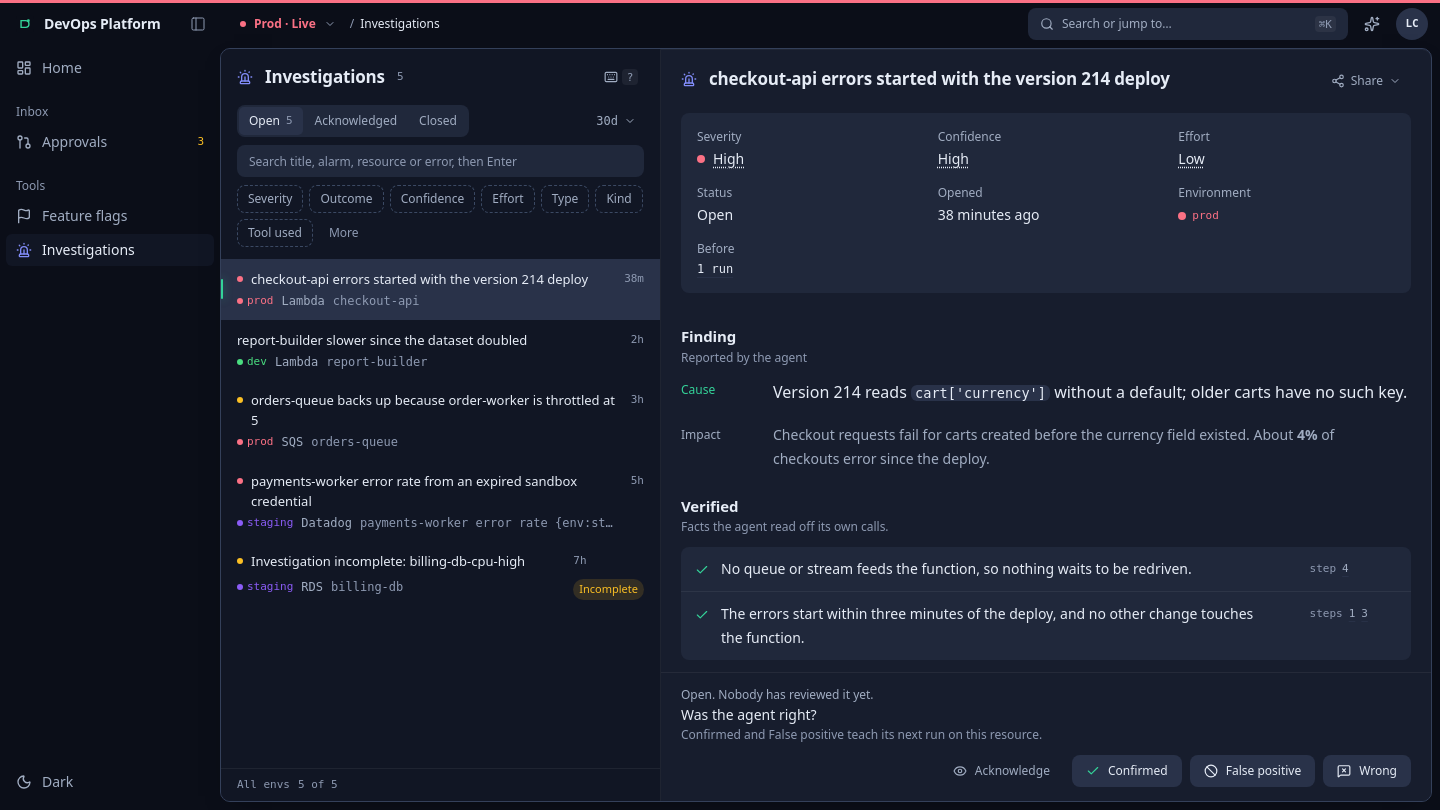
Scenario: one investigation › acknowledges an open finding
Click the button "Acknowledge": (1001, 771) [939,755,1064,787]
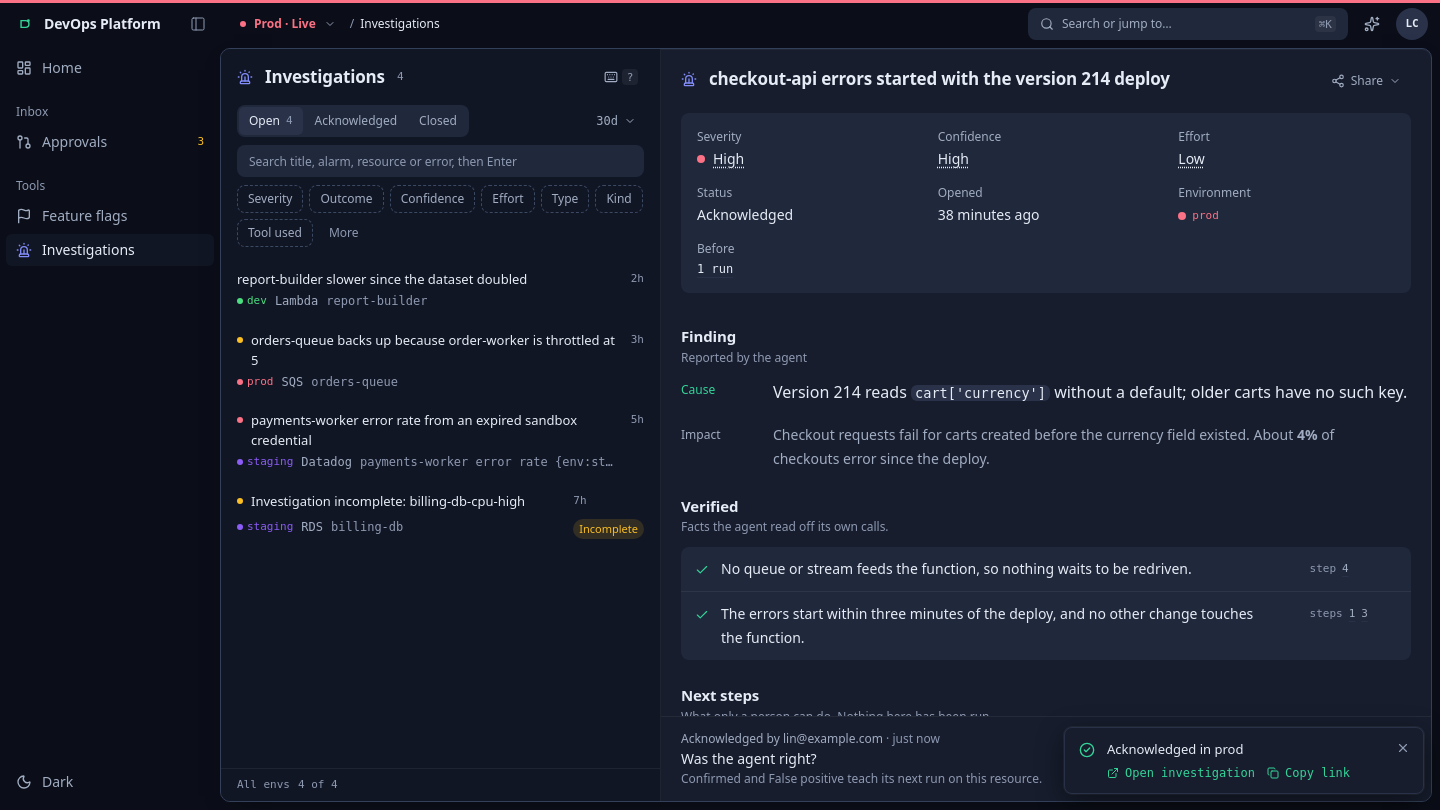
expect the text "Acknowledged by lin@example.com · just now" is shown: met, box [681,730,940,747]
